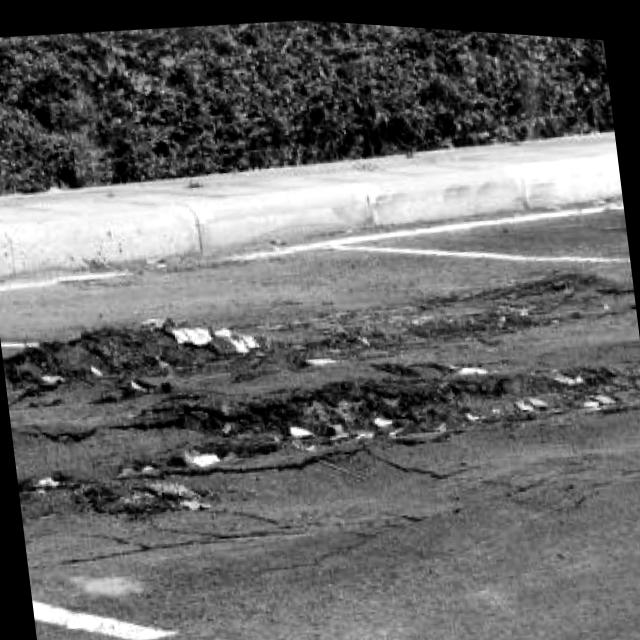pathole: (2, 259, 616, 522)
